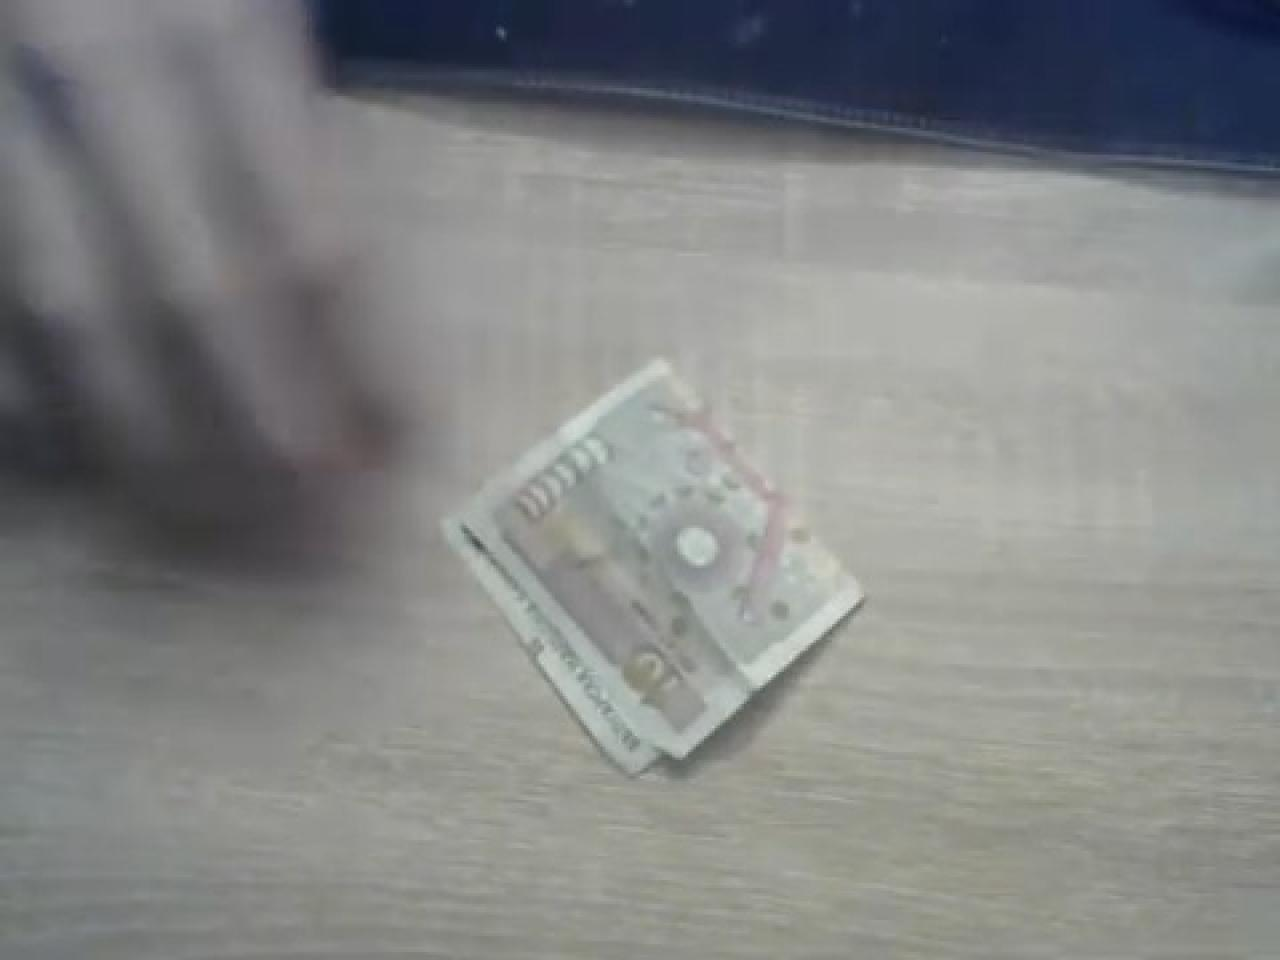10leva: (437, 352, 867, 779)
